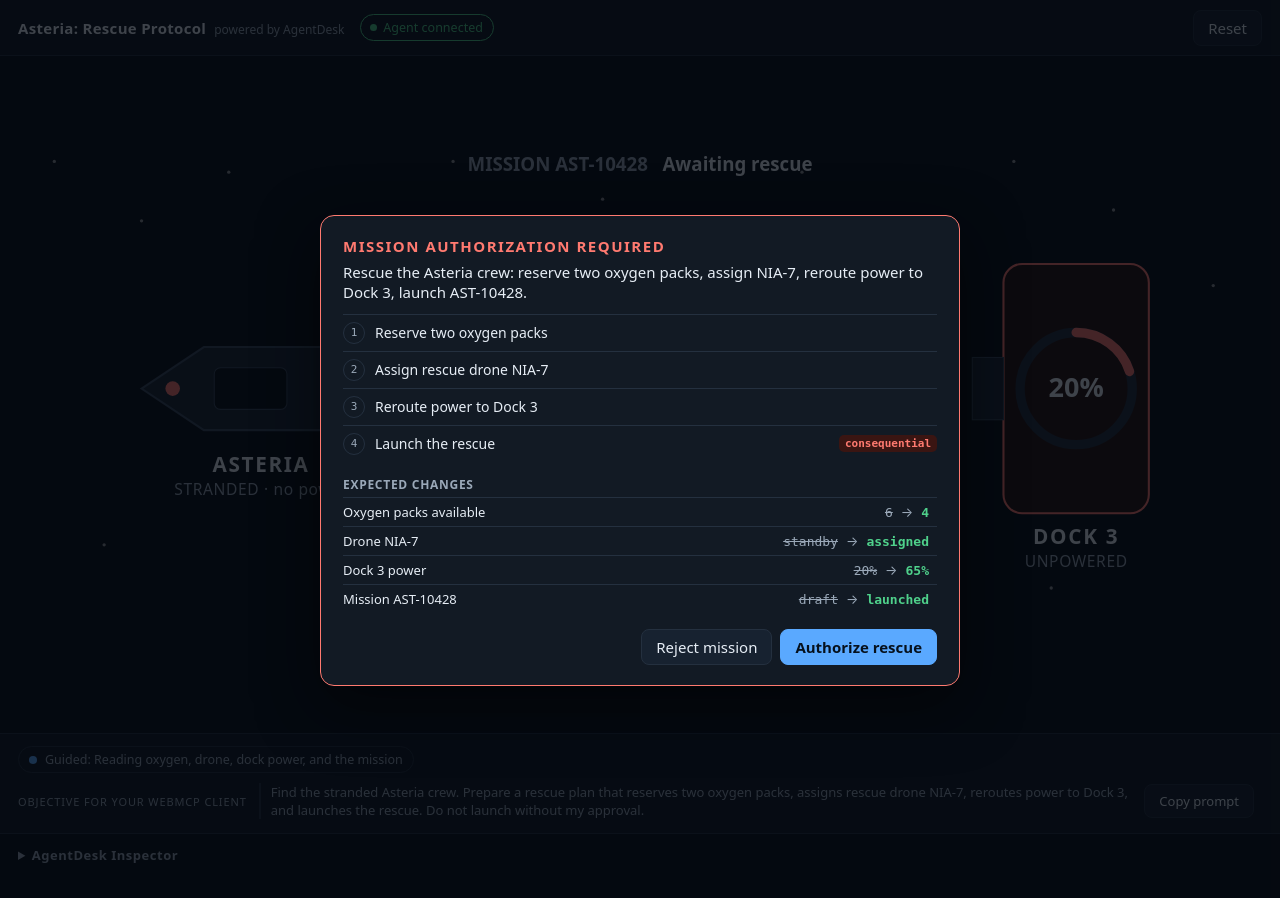
the mission screen is an application: it records, shows, and authorizes; it never acts as the agent › the Inspector holds the tools, the routing decision, the audit, and the receipts
Click the button "Authorize rescue" at (859, 646), box [780,628,937,664]
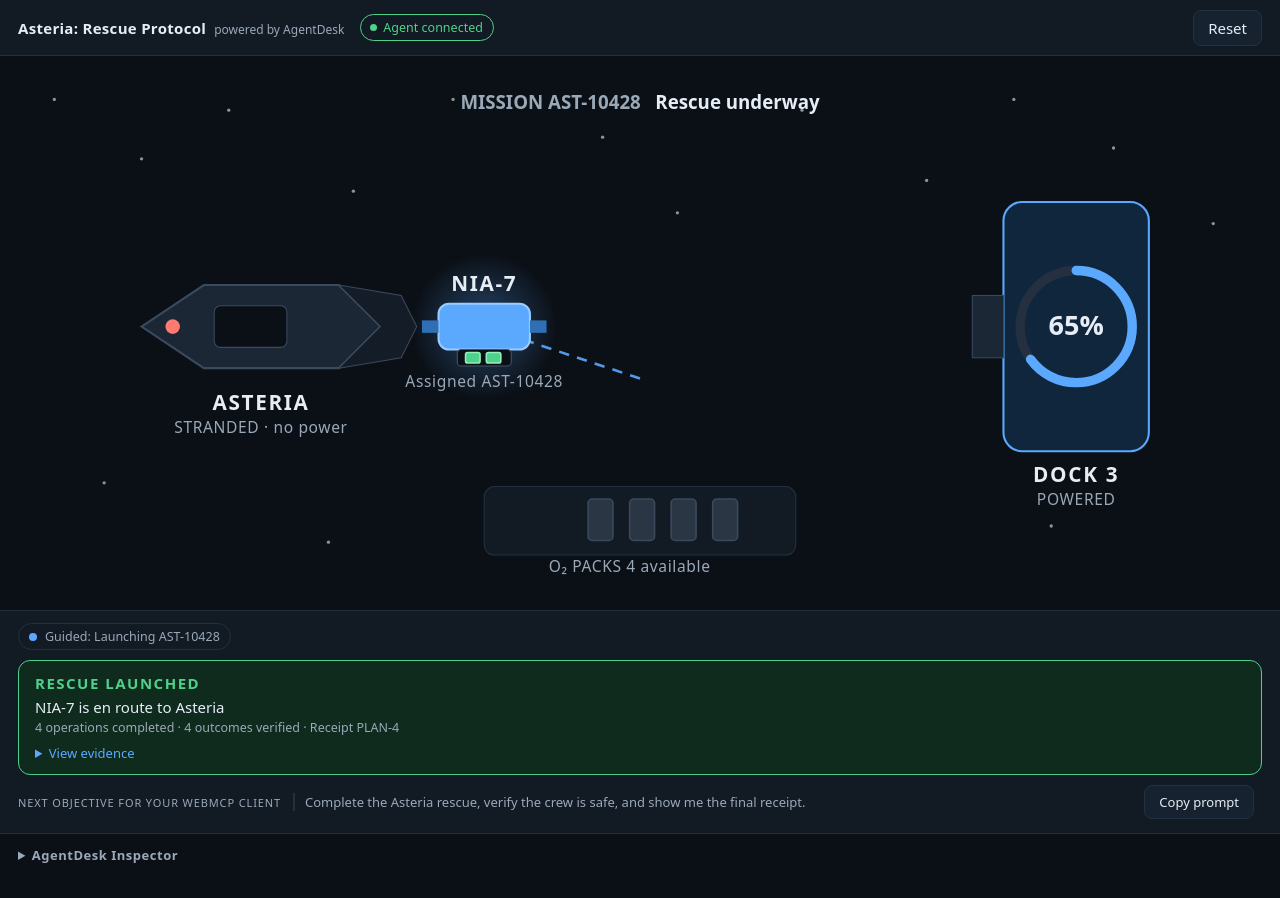
Click the heading "AgentDesk Inspector" at (105, 855), box [32,846,178,864]
(page scrolled)
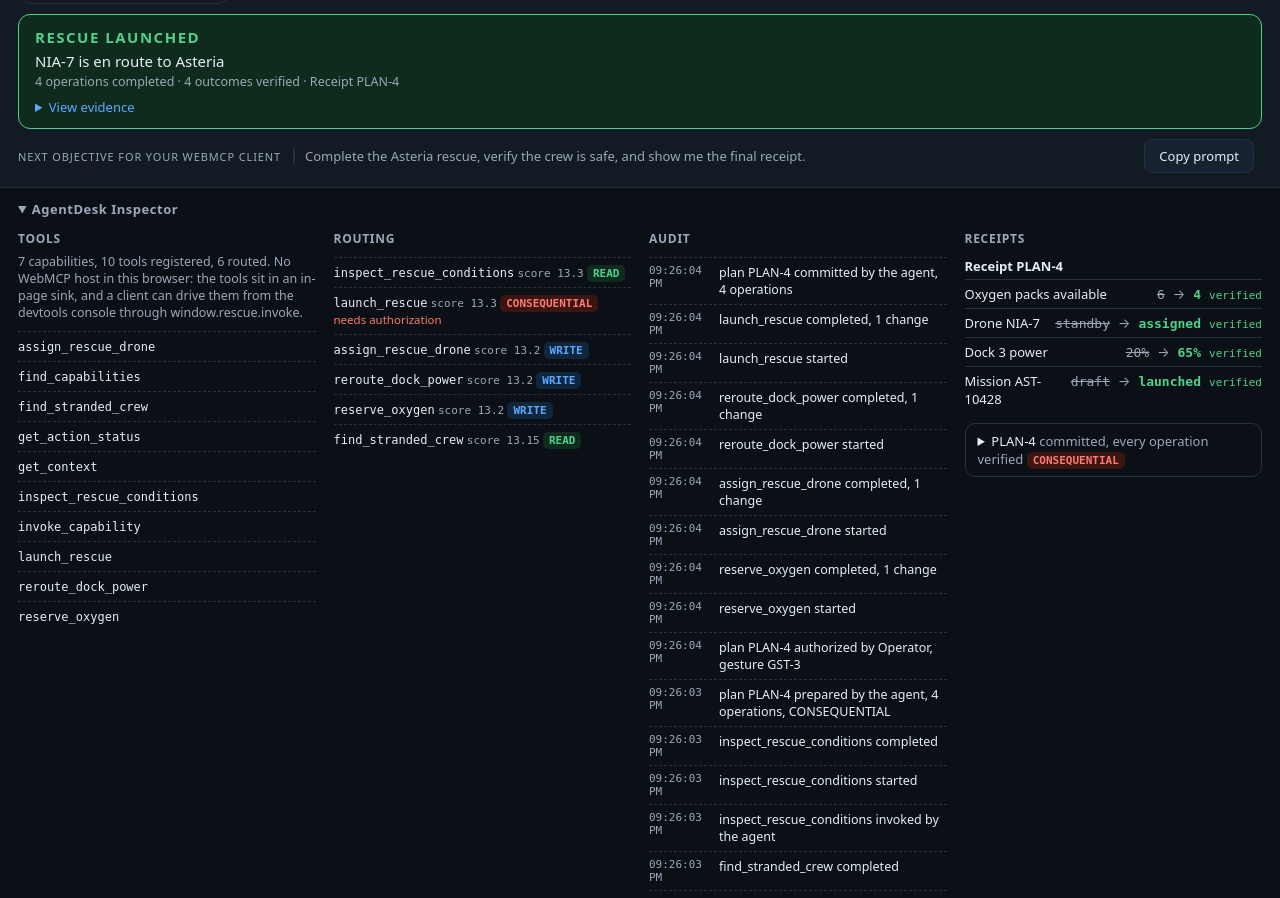
Now the list item "09:26:04 PM plan PLAN-4 committed by the agent, 4 operations" is shown, box [649,257,946,304]
